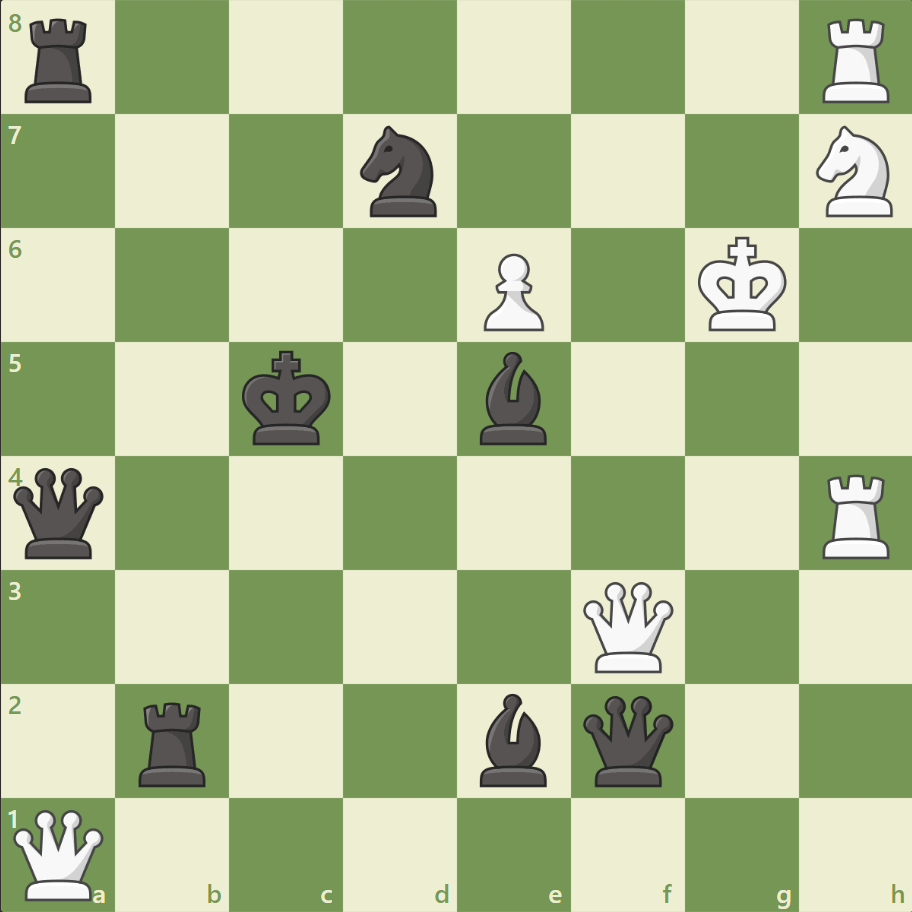K: (692, 231, 792, 339)
N: (806, 121, 903, 223)
P: (474, 246, 549, 337)
Q: (578, 576, 677, 676), (10, 804, 109, 903)
R: (814, 12, 897, 109), (814, 466, 897, 563)
b: (471, 687, 555, 790), (471, 347, 555, 449)
k: (238, 344, 338, 452)
n: (351, 121, 449, 223)
q: (10, 463, 109, 562), (578, 690, 677, 789)
r: (19, 12, 102, 109), (133, 693, 215, 790)
